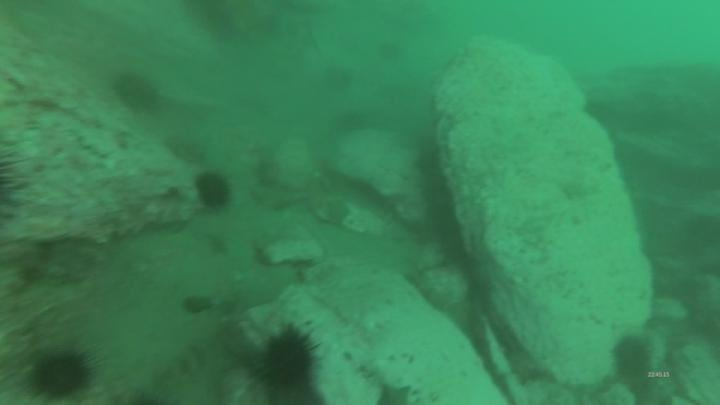echinus: (254, 326, 324, 394), (27, 343, 97, 403), (608, 332, 656, 386), (112, 71, 164, 113), (191, 169, 237, 213), (323, 64, 356, 97), (334, 109, 371, 136), (377, 40, 404, 66)
